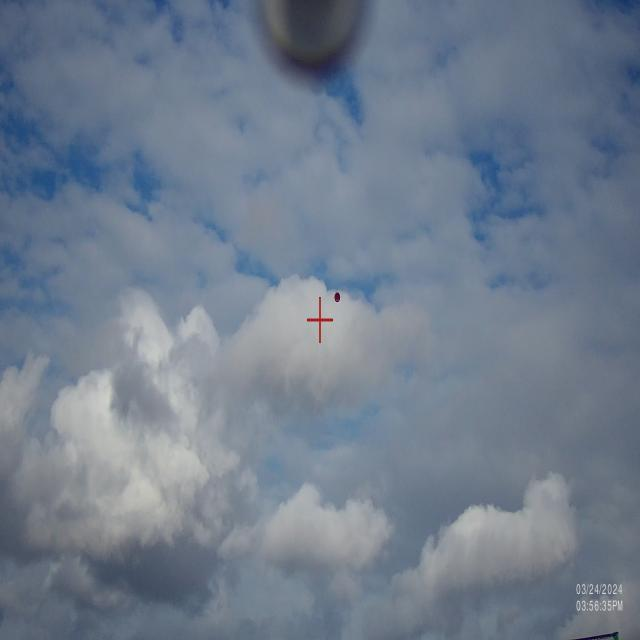entire: (332, 284, 343, 306)
